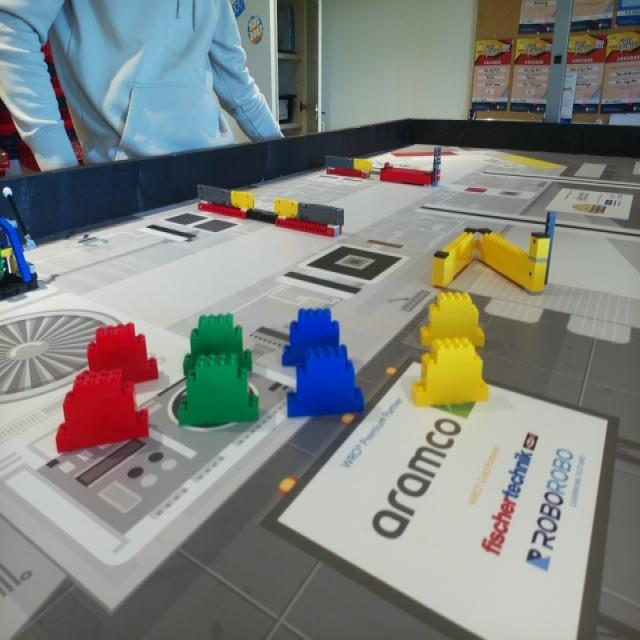blau: (284, 353, 363, 415), (287, 310, 338, 343)
gruen: (179, 357, 260, 424), (184, 314, 253, 364)
rot: (55, 371, 150, 454), (82, 322, 158, 383)
yellow: (411, 340, 486, 407), (422, 293, 486, 348)
